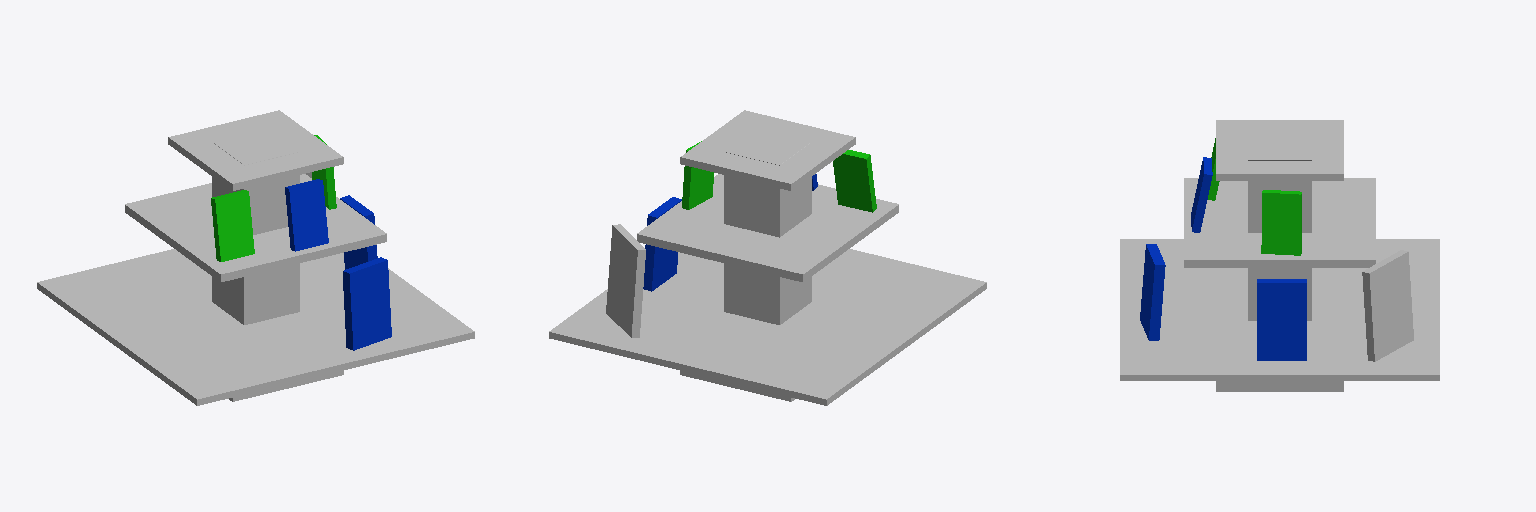
File: showtafel.obj
3 views of the same model, side by side, from view 1: azimuth 30°, elevation 25°; view 2: azimuth 150°, elevation 25°; view 3: azimuth 270°, elevation 25° (orthographic).
Visible parts, largest first — view 1: Cube, Cube.003, Cube.004, Cube.005, Cube.001, Cube.002; view 2: Cube, Cube.005, Cube.001, Cube.002; view 3: Cube, Cube.001, Cube.002, Cube.003, Cube.004.
Part boxes in pixels (x1,y1,x2,y2): Cube: (37,110,474,405); Cube.003: (343,257,391,350); Cube.004: (285,179,328,251); Cube.005: (211,190,254,261); Cube.001: (340,195,377,269); Cube.002: (312,135,336,209); Cube: (549,110,986,405); Cube.005: (833,150,876,212); Cube.001: (643,197,681,291); Cube.002: (682,141,713,209); Cube: (1120,120,1439,391); Cube.001: (1257,279,1306,360); Cube.002: (1261,190,1301,255); Cube.003: (1140,244,1165,340); Cube.004: (1191,157,1212,232).
Size of the model in its own units: 10 by 7.51 by 10.